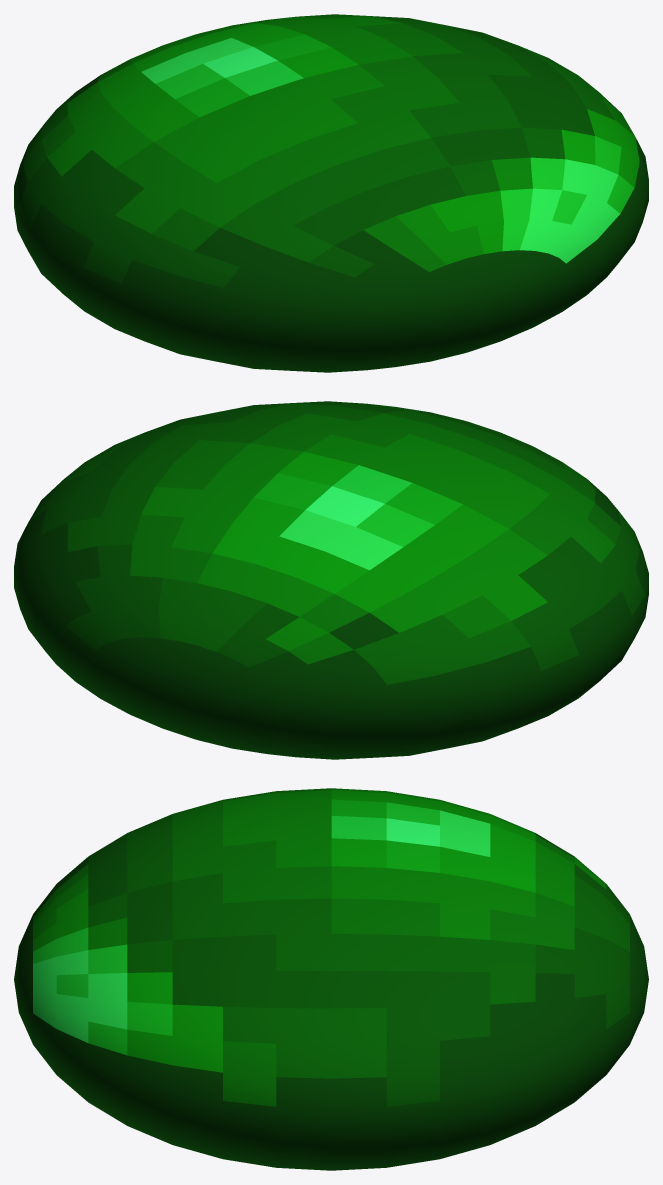
Rendered from newshh-127.glb.
3 renders of one model, top to bottom at view 1: azimuth 30°, elevation 25°; view 2: azimuth 150°, elevation 25°; view 3: azimuth 270°, elevation 25°, orthographic. The views are drawn at different scales.
Parts seen in each view (by area): view 1: newshh-127; view 2: newshh-127; view 3: newshh-127.
Boxes of the visible parts, left/top/right/bottom form: newshh-127: left=14, top=14, right=648, bottom=372; newshh-127: left=14, top=401, right=648, bottom=759; newshh-127: left=14, top=788, right=648, bottom=1170.
Bounding box in the file's own units: 1.43 × 0.5971 × 1.35.
